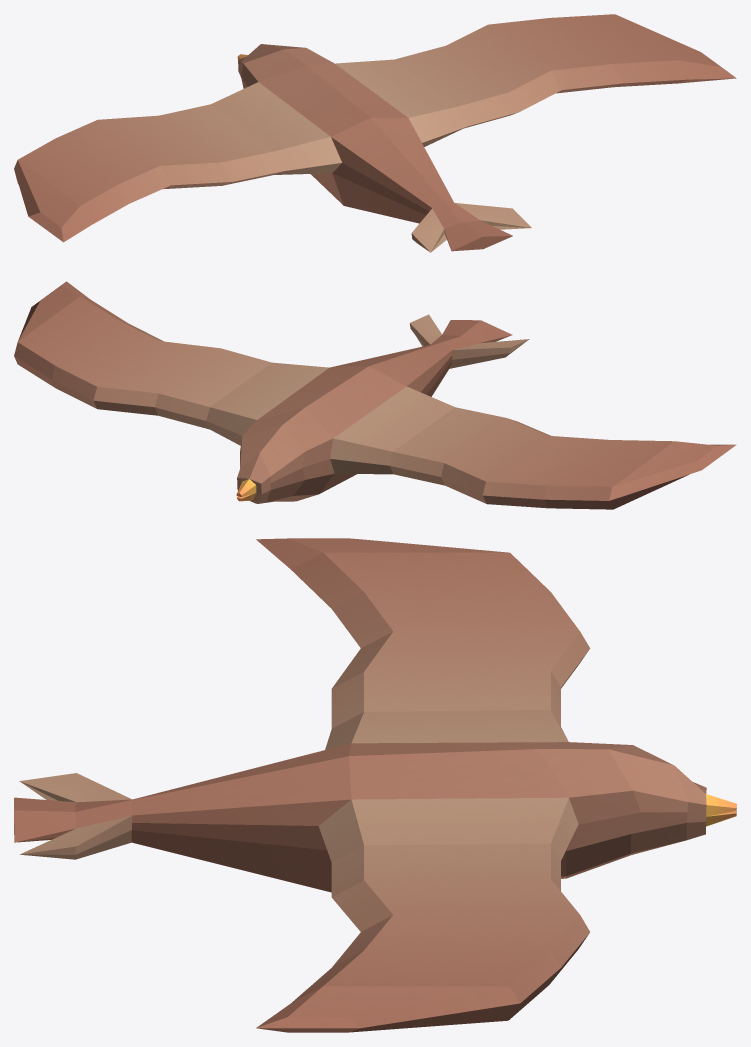
Rendered from SM_Hawk.fbx.
The picture shows the model from 3 angles, top to bottom: view 1: azimuth 30°, elevation 25°; view 2: azimuth 150°, elevation 25°; view 3: azimuth 270°, elevation 25°; orthographic projection. The views are drawn at different scales.
Parts seen in each view (by area): view 1: Hawk; view 2: Hawk; view 3: Hawk.
Boxes of the visible parts, left/top/right/bottom form: Hawk: left=14, top=14, right=736, bottom=252; Hawk: left=14, top=281, right=736, bottom=509; Hawk: left=14, top=538, right=736, bottom=1032.
Bounding box in the file's own units: 259 × 35.07 × 162.
